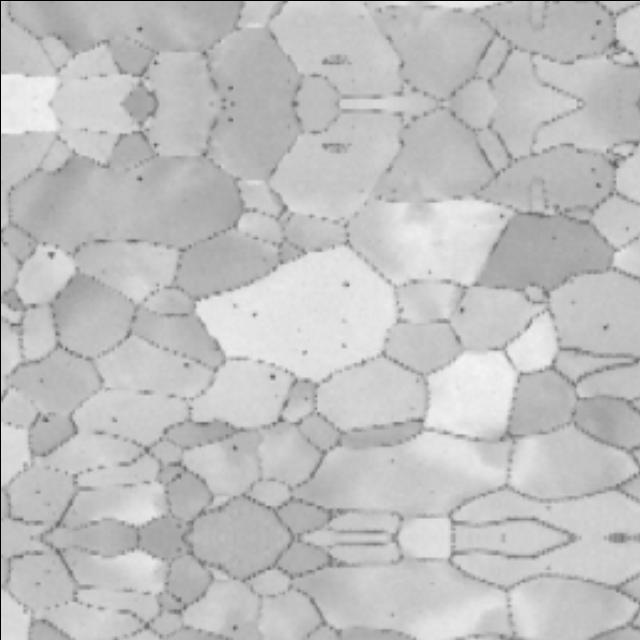good_void: (457, 300, 468, 315), (247, 306, 258, 320), (591, 178, 603, 190), (591, 14, 603, 26), (297, 343, 308, 356), (340, 276, 354, 286), (47, 245, 56, 259), (600, 318, 609, 332), (339, 338, 347, 352), (228, 440, 238, 450), (228, 624, 238, 634), (267, 372, 275, 382), (134, 170, 141, 181), (134, 23, 141, 34), (231, 299, 237, 311), (424, 266, 433, 274), (111, 413, 118, 423), (153, 139, 161, 147), (497, 212, 505, 220), (181, 358, 189, 366), (153, 57, 161, 65), (40, 414, 49, 421)
